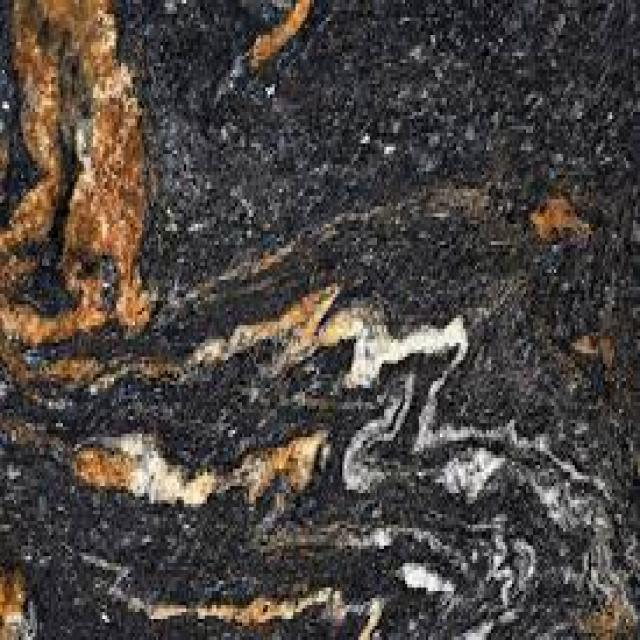Metamorphic: (2, 4, 640, 636)
